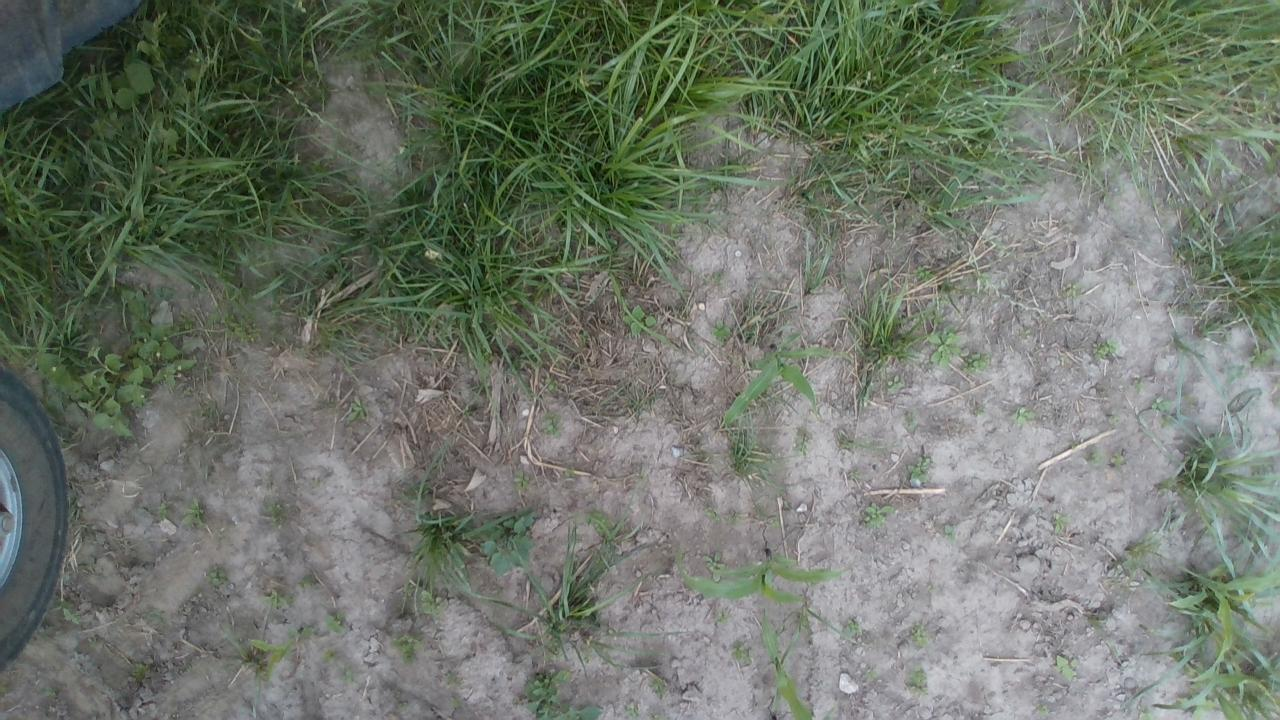Maize: (717, 332, 860, 430), (671, 544, 855, 603), (757, 609, 821, 720)
Weeds: (377, 440, 563, 691), (1157, 390, 1280, 720), (0, 287, 226, 439), (490, 507, 660, 664), (1153, 182, 1280, 374), (337, 385, 691, 442), (686, 390, 786, 484), (206, 626, 318, 688), (519, 662, 611, 720), (1110, 520, 1168, 594), (775, 600, 849, 658), (1089, 608, 1124, 669), (386, 623, 427, 671), (705, 501, 782, 526), (615, 300, 657, 342), (313, 599, 351, 641), (1044, 646, 1084, 684), (1086, 332, 1121, 373), (436, 671, 469, 712), (260, 498, 296, 535), (901, 447, 933, 487), (178, 497, 216, 530), (48, 596, 90, 624), (831, 428, 873, 454), (622, 700, 674, 720), (1048, 510, 1079, 542), (259, 588, 294, 616), (201, 562, 229, 596), (839, 616, 870, 644), (858, 505, 894, 528), (136, 604, 173, 626), (1010, 404, 1038, 432), (726, 634, 754, 662), (906, 622, 933, 651), (907, 666, 932, 696), (704, 318, 732, 344), (704, 550, 728, 580), (900, 407, 921, 439), (150, 497, 172, 527), (964, 404, 988, 430), (292, 572, 324, 590), (648, 675, 672, 697), (338, 664, 360, 688), (938, 524, 962, 546), (792, 430, 812, 456), (1080, 446, 1102, 467), (1108, 452, 1126, 477), (1060, 276, 1076, 304), (839, 462, 862, 481), (857, 668, 881, 686), (1104, 411, 1124, 432), (130, 660, 151, 679), (322, 646, 339, 666), (1129, 376, 1147, 393), (1034, 704, 1050, 718)
